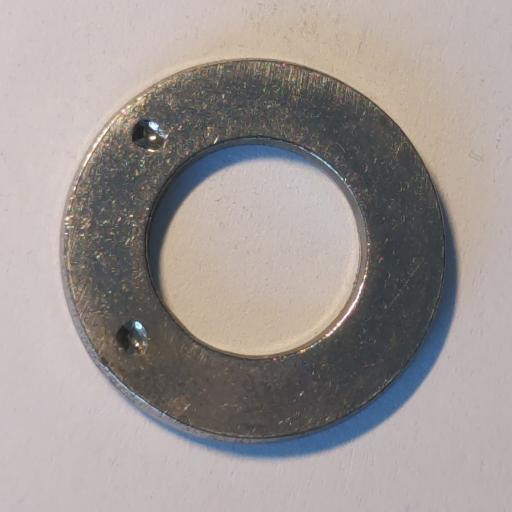circular_cavity: (116, 317, 150, 358), (130, 116, 169, 151)
